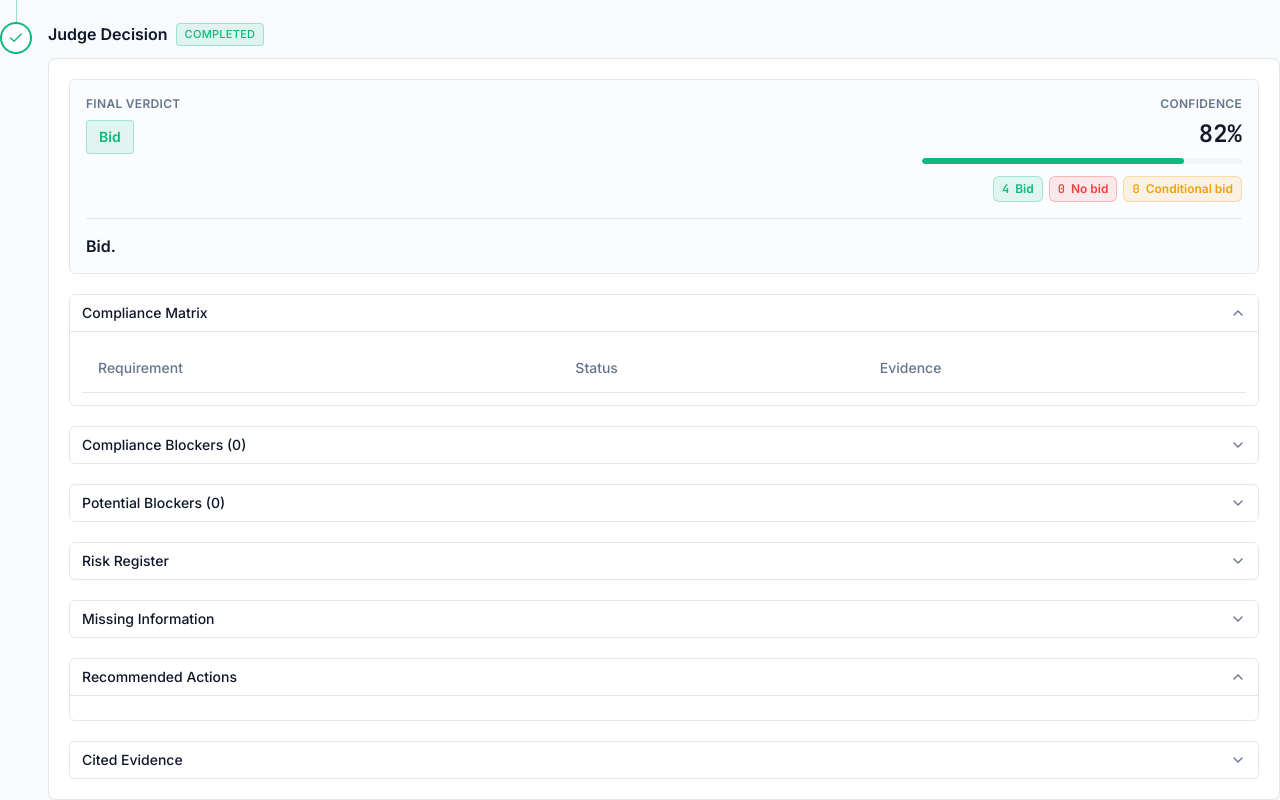
it: RunDetail › shows an explicit missing-source state for citations outside the evidence board
(page scrolled)
Click the button "Cited Evidence" at [132, 759], box [70,742,1258,778]
(page scrolled)
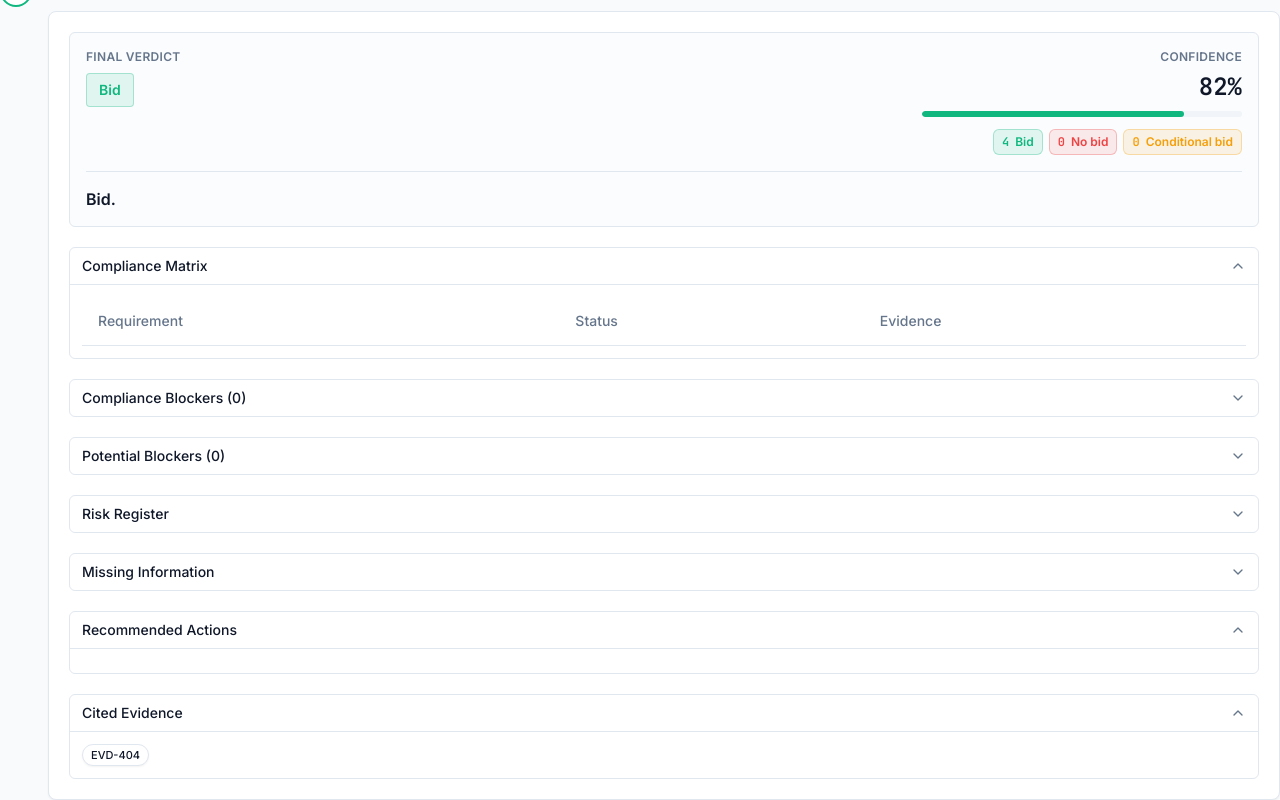
Click the button with aria-label "Open source for EVD-404" at [116, 755], box [82,744,149,766]
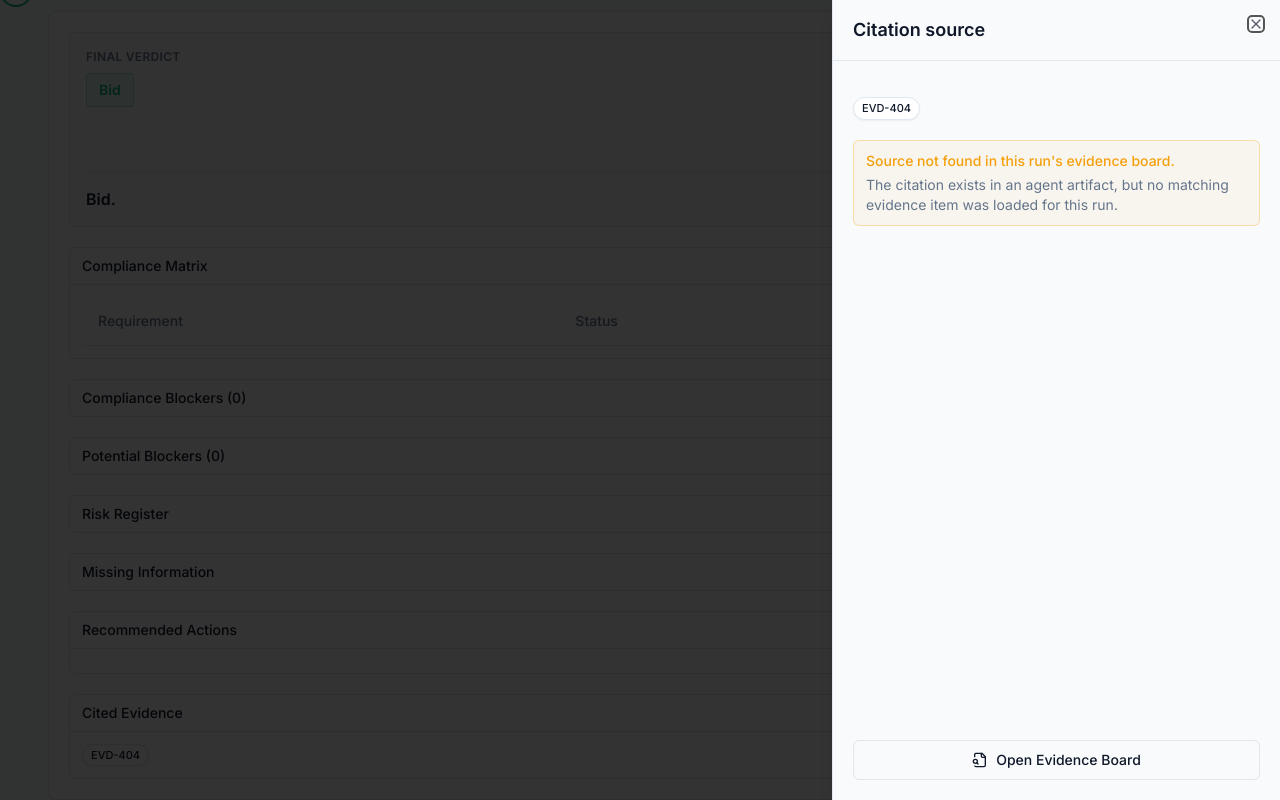
expect the text "Source not found in this run's evidence board." is shown: met, box [866,152,1175,168]
expect the text "EVD-404" is shown: met, box [862,100,911,116]
